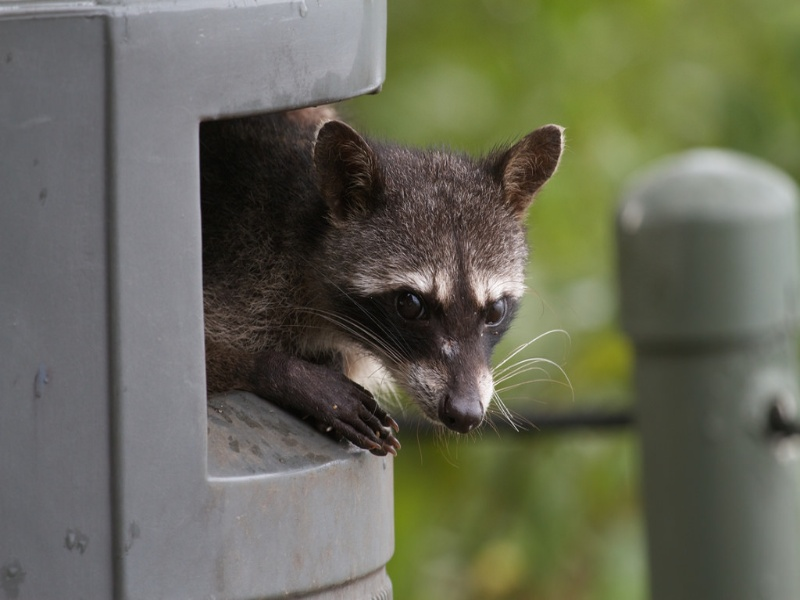raccoon: (197, 94, 567, 466)
